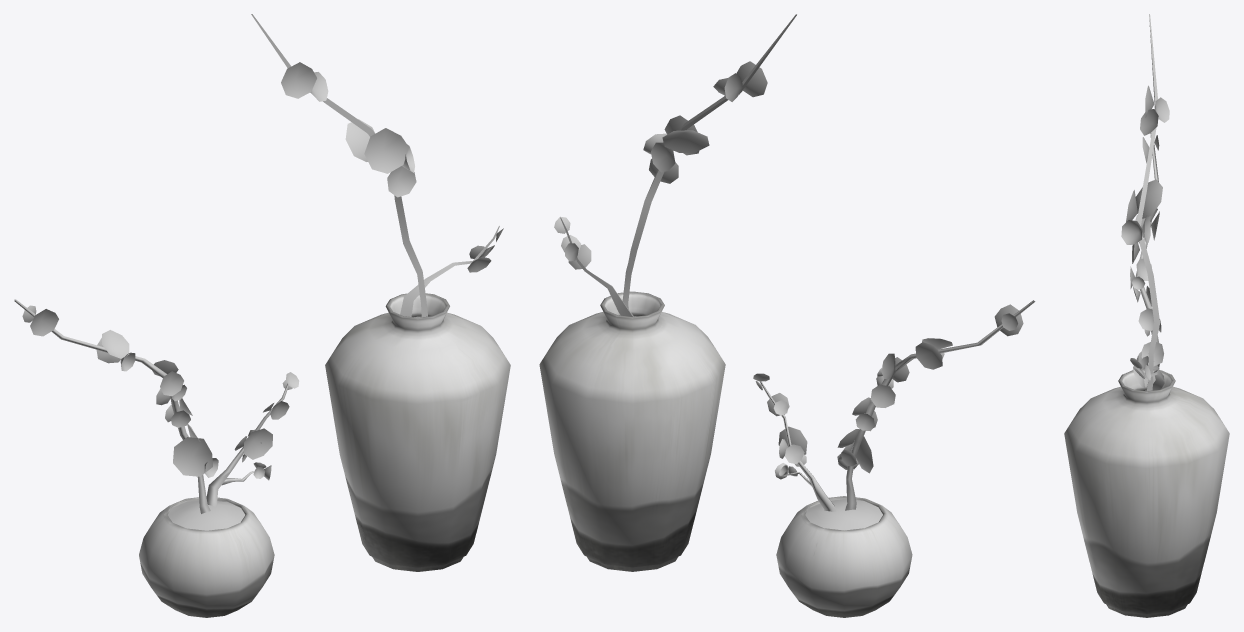
Rendered from Vase.fbx.
3 renders of one model, left to right at view 1: azimuth 30°, elevation 25°; view 2: azimuth 150°, elevation 25°; view 3: azimuth 270°, elevation 25°, orthographic. The views are drawn at different scales.
Parts seen in each view (by area): view 1: Vase01, Vase02, Vase_Plant_02, Vase_Plant_01; view 2: Vase01, Vase02, Vase_Plant_02, Vase_Plant_01; view 3: Vase01, Vase_Plant_01, Vase_Plant_02.
Part boxes in pixels (left/top/right/bottom): Vase01: left=325, top=293, right=510, bottom=571; Vase02: left=139, top=496, right=274, bottom=617; Vase_Plant_02: left=14, top=299, right=299, bottom=530; Vase_Plant_01: left=251, top=14, right=503, bottom=317; Vase01: left=539, top=291, right=725, bottom=571; Vase02: left=776, top=496, right=912, bottom=617; Vase_Plant_02: left=753, top=300, right=1035, bottom=530; Vase_Plant_01: left=554, top=14, right=796, bottom=316; Vase01: left=1064, top=369, right=1229, bottom=617; Vase_Plant_01: left=1121, top=14, right=1169, bottom=391; Vase_Plant_02: left=1130, top=132, right=1163, bottom=369.
Bounding box in the file's own units: 157 × 52.32 × 179.
